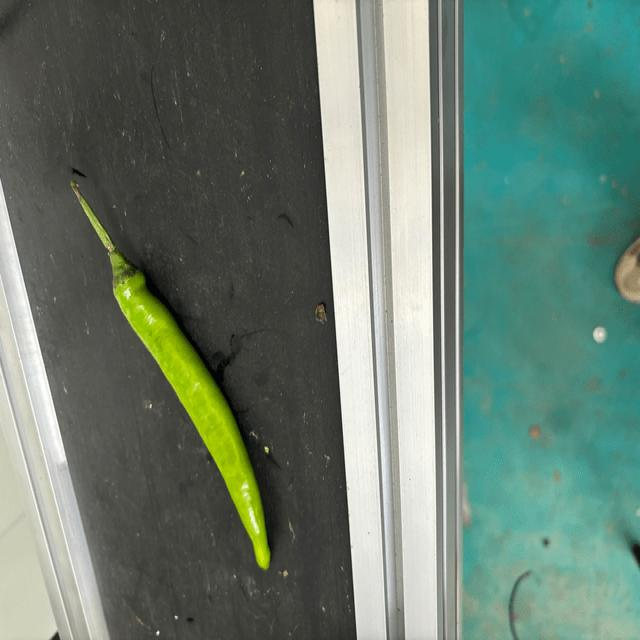chili: (112, 260, 271, 572)
